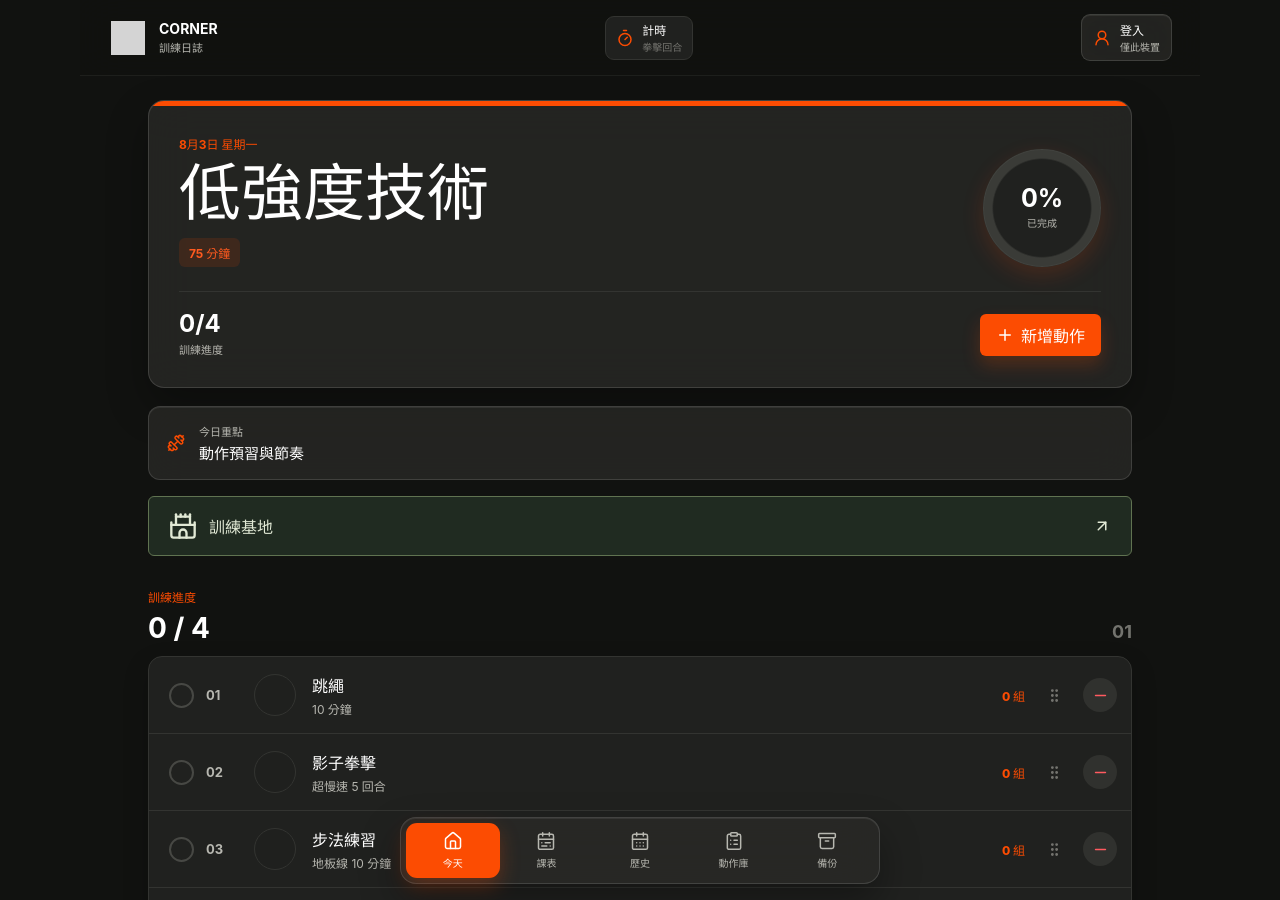
it: Boxing Tracker › steps a custom drill target without touching the weekly plan
Click the button "新增動作" at (1040, 335), box [980,314,1101,356]
(page scrolled)
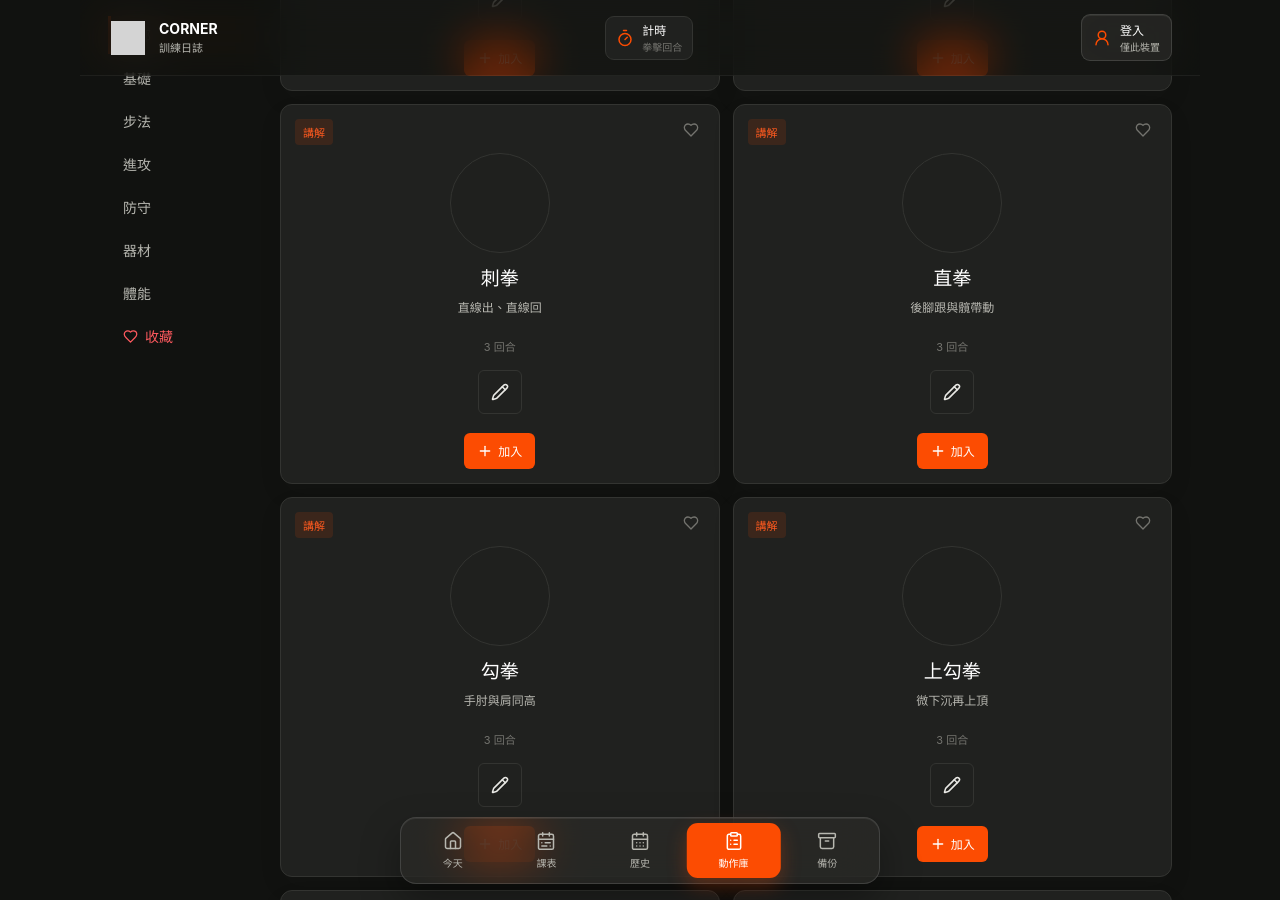
Click the button "加入" below "直線出、直線回" at (500, 451), box [464,433,535,469]
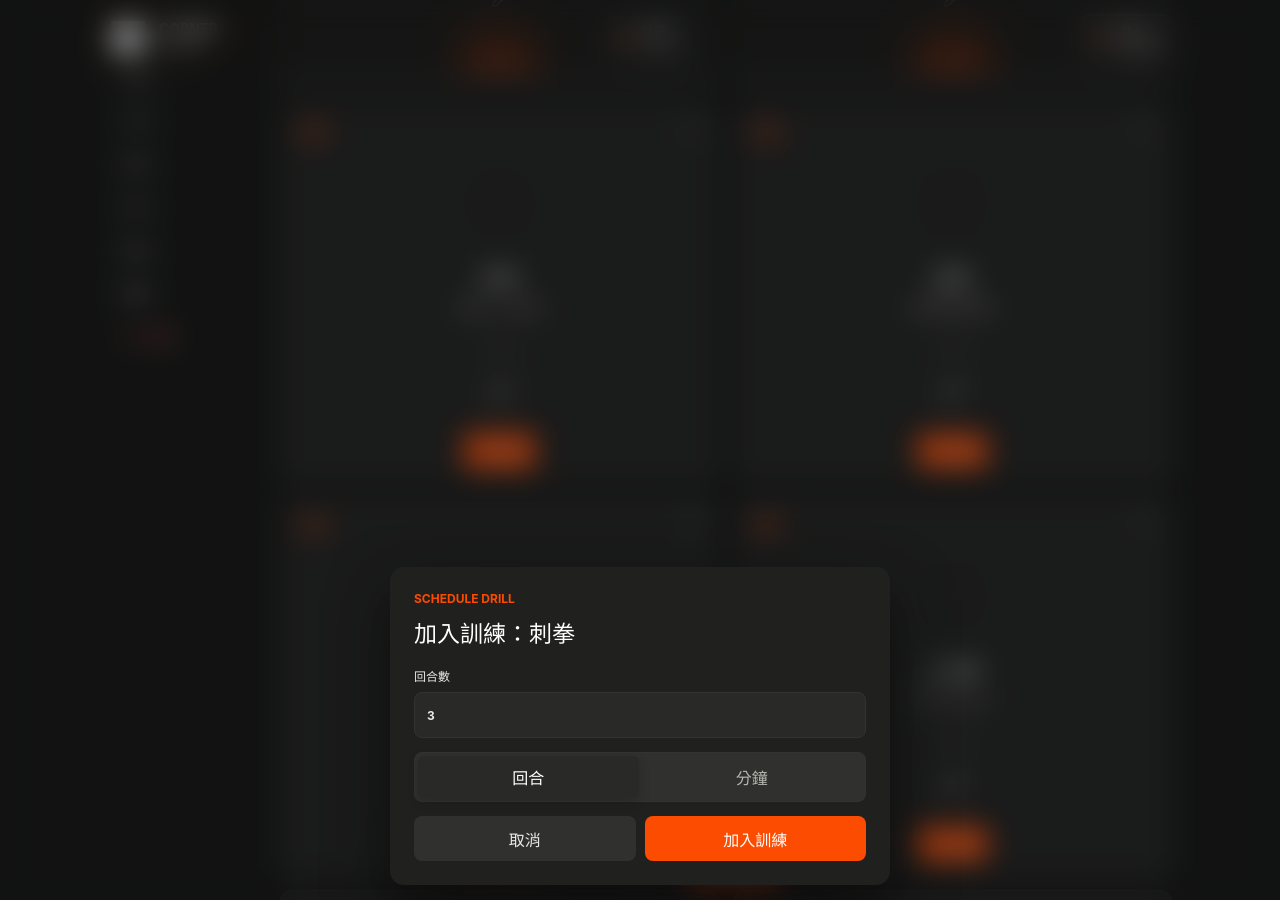
Click the button "加入訓練" at (755, 838), box [644,816,866,861]
(page scrolled)
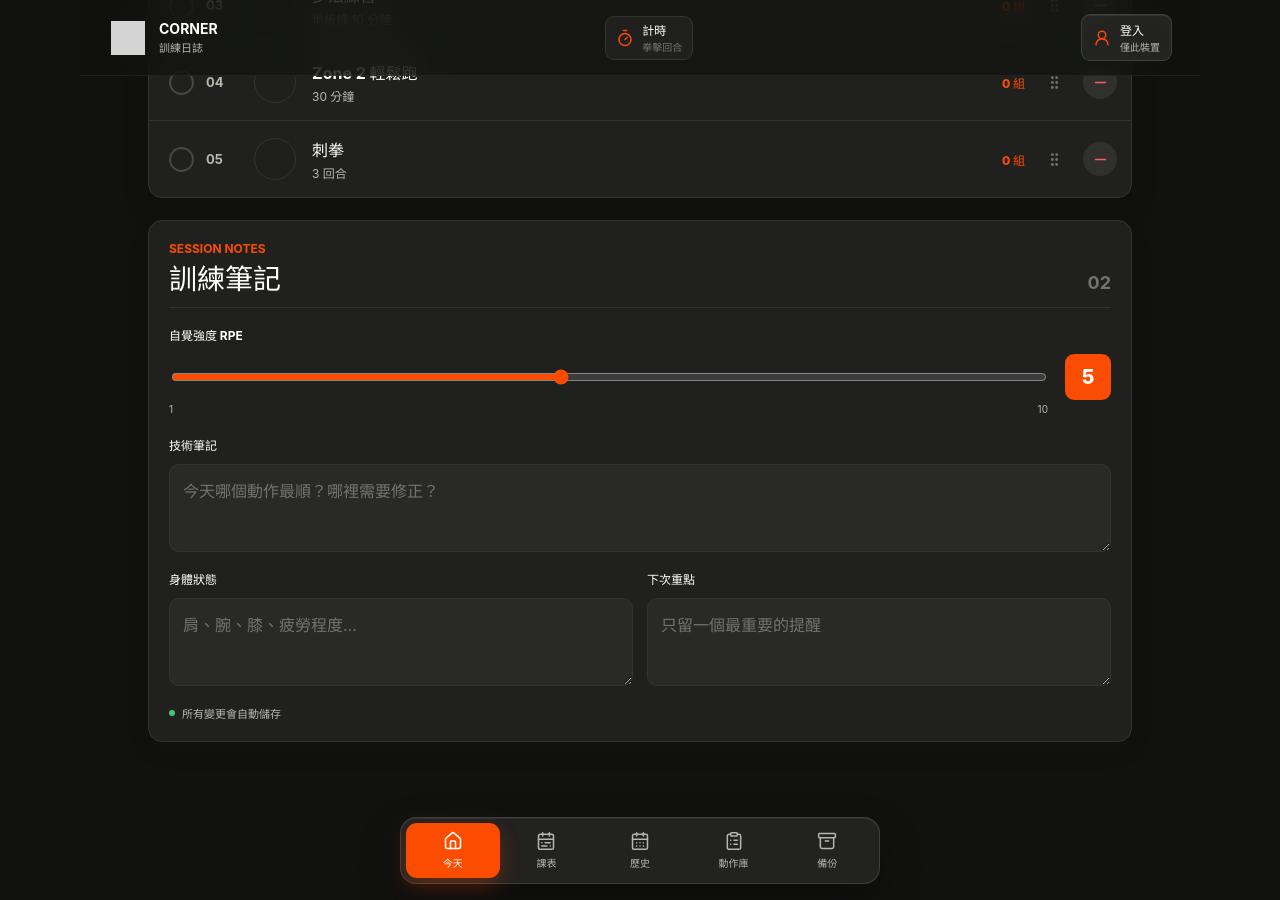
Click the text "刺拳" at (328, 150), box [312,140,344,160]
(page scrolled)
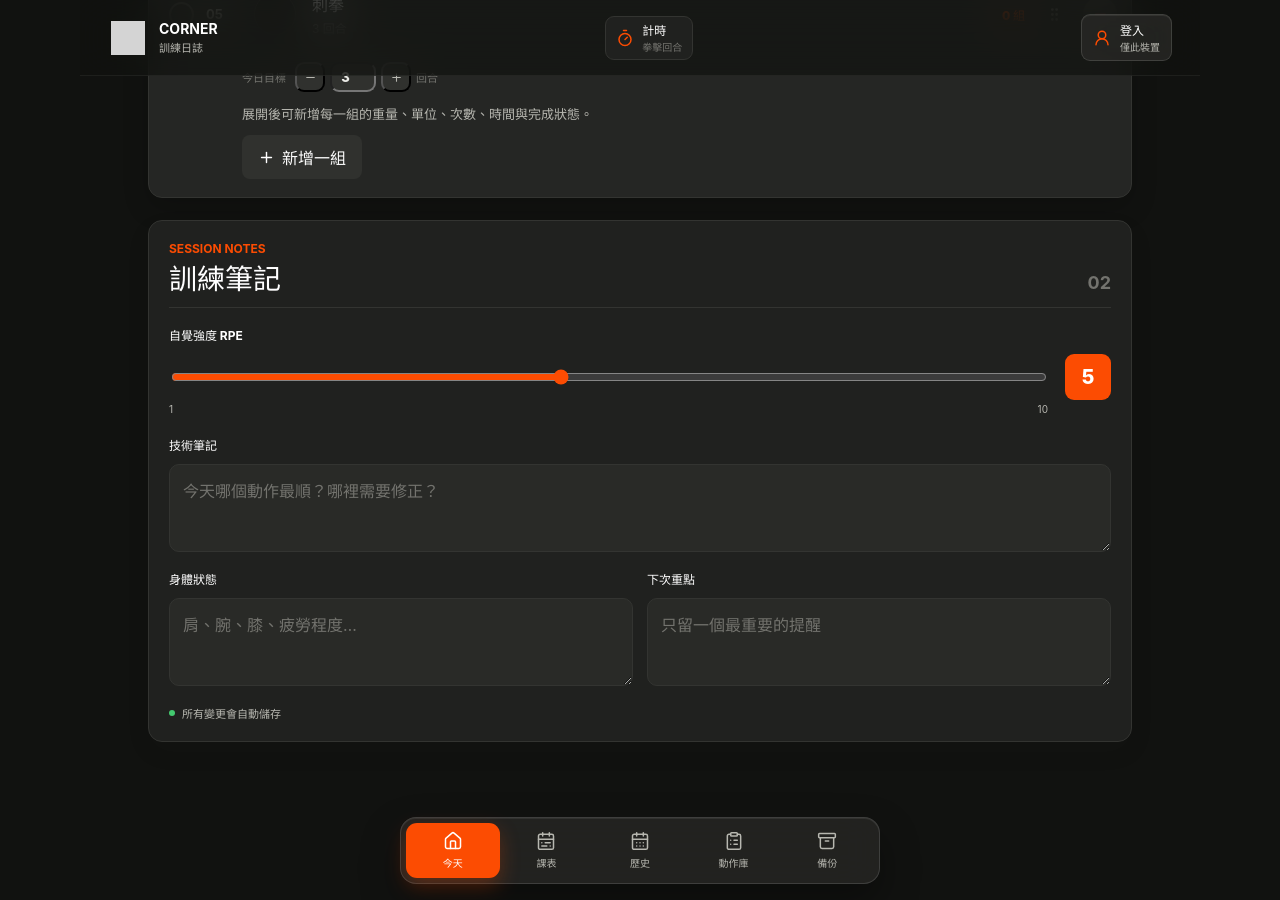
Click the button named "增加刺拳今日目標" at (396, 77), box [381,62,411,92]
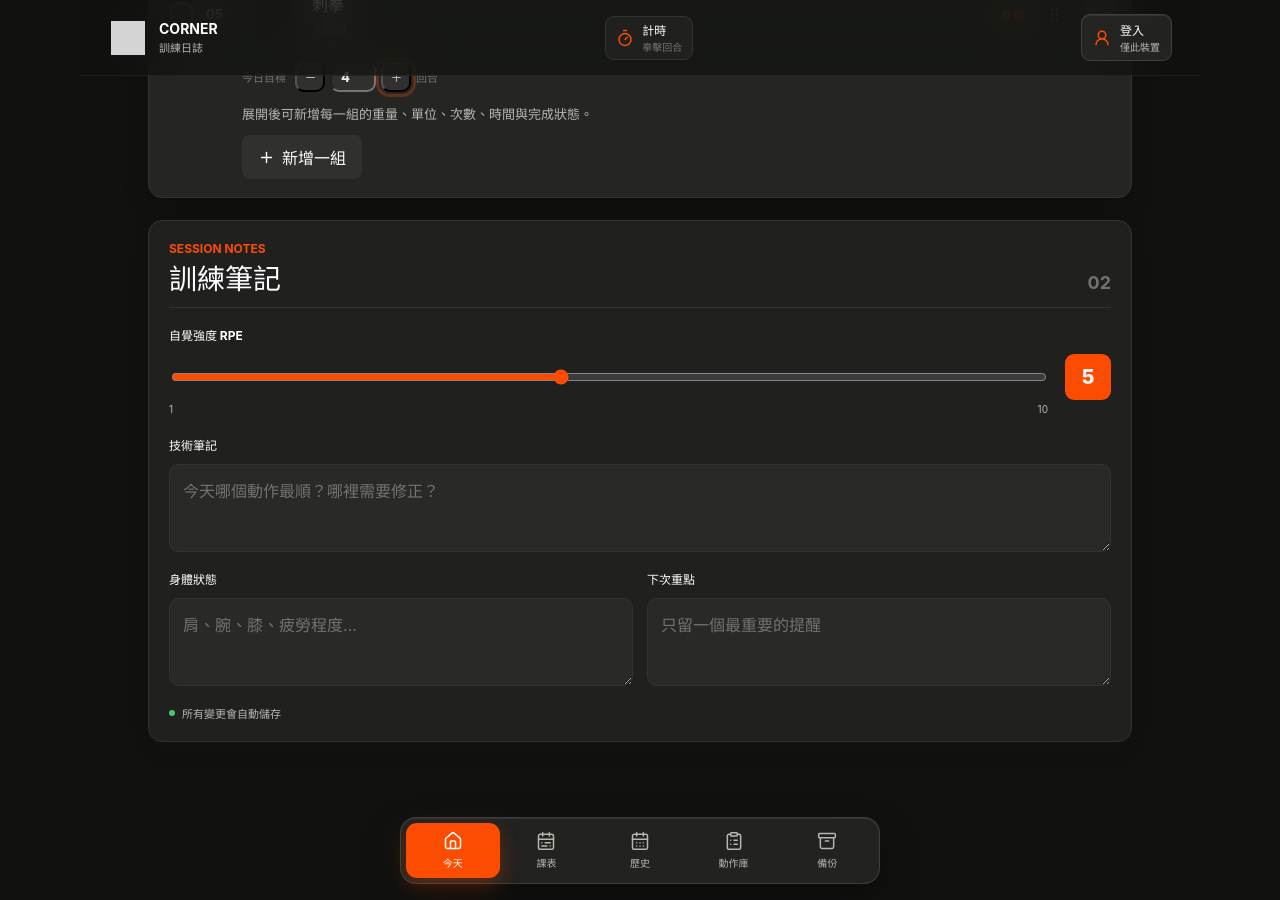
Expected: the number field named "刺拳今日目標" holds "4", [330,62,376,92]
